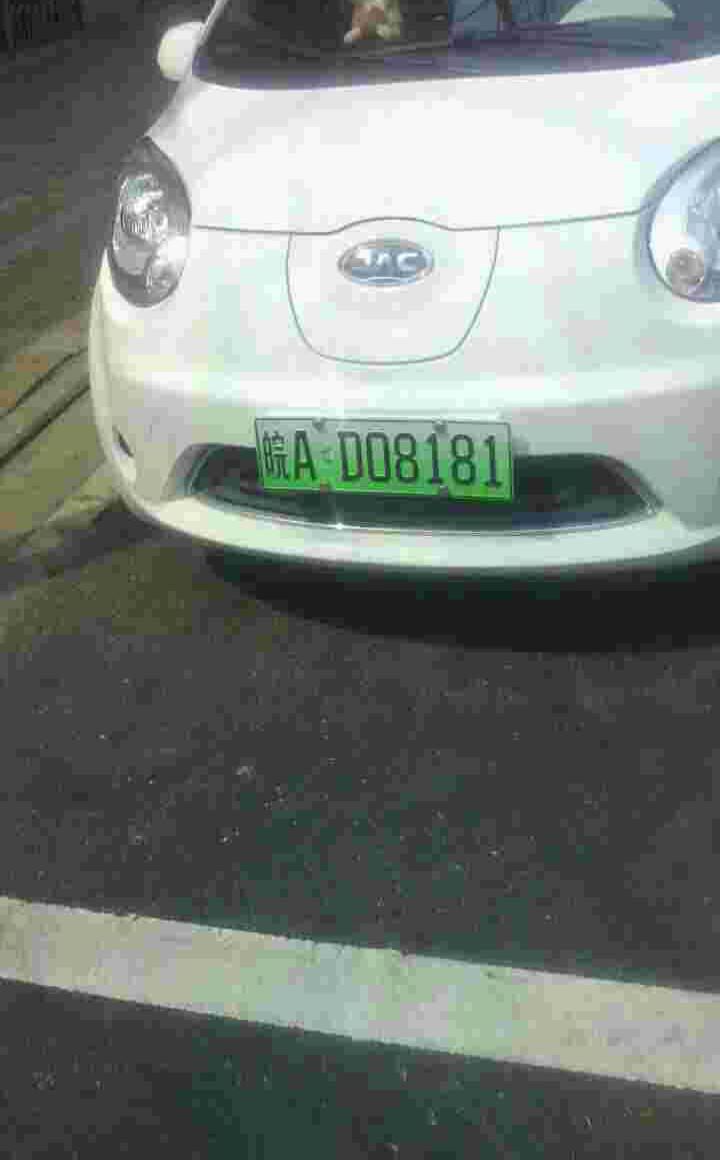car: (256, 418, 521, 506)
